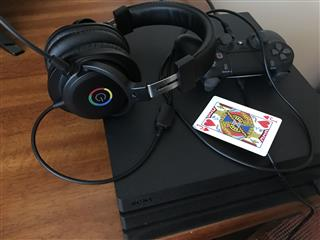JackOfHearts: (191, 94, 282, 156)
